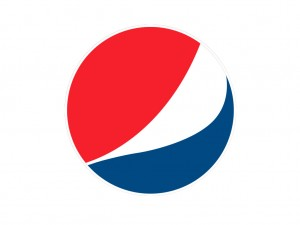pepsi: (63, 25, 234, 193), (65, 25, 234, 193)
